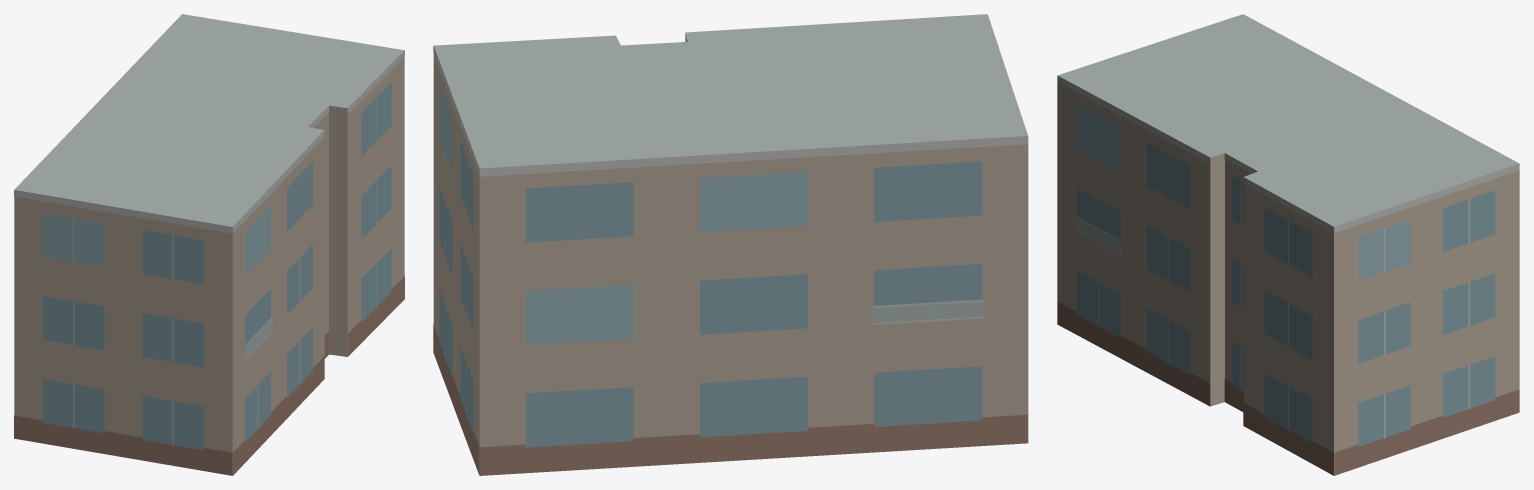
File: survey-upis-32501339.glb
3 renders of one model, left to right at view 1: azimuth 30°, elevation 25°; view 2: azimuth 150°, elevation 25°; view 3: azimuth 270°, elevation 25°, orthographic. The views are drawn at different scales.
Parts seen in each view (by area): view 1: survey-upis-32501339.tmp; view 2: survey-upis-32501339.tmp; view 3: survey-upis-32501339.tmp.
Part boxes in pixels (box(x1,y1,x2,y2)): survey-upis-32501339.tmp: box(14, 14, 404, 475); survey-upis-32501339.tmp: box(433, 14, 1028, 475); survey-upis-32501339.tmp: box(1057, 14, 1519, 475).
Size of the model in its own units: 16.7 by 9.1 by 15.32.
